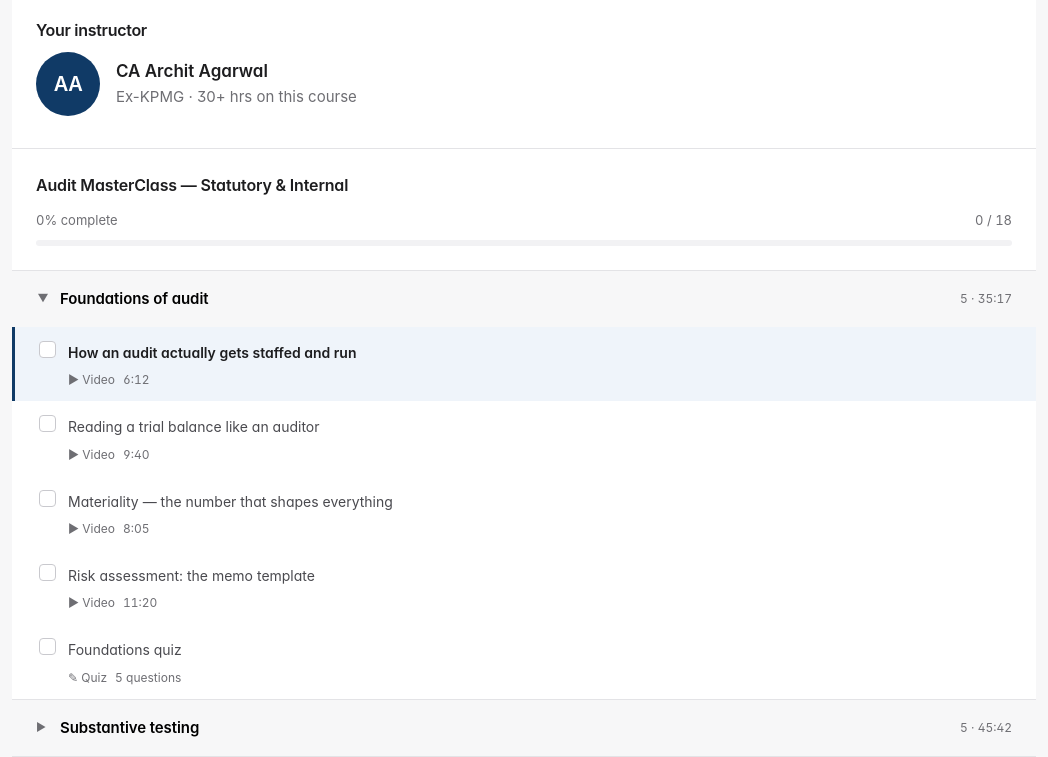
Test case: lesson progress survives finishing a lesson › lets the sidebar checkbox toggle a lesson without navigating away
(page scrolled)
Click the checkbox named "Mark complete: Materiality" at (48, 498), box [39, 490, 56, 507]
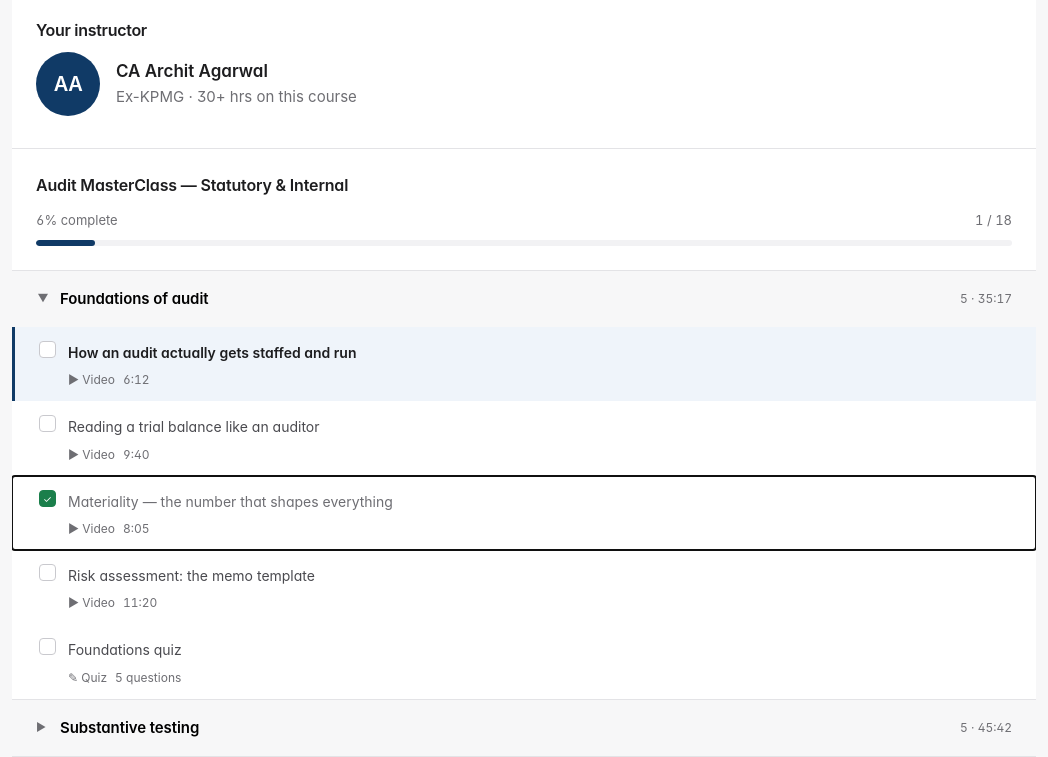
Now the text "1 / 18" is shown, box [975, 210, 1012, 231]
Click the checkbox named "Mark incomplete: Materiality" at (48, 498), box [39, 490, 56, 507]
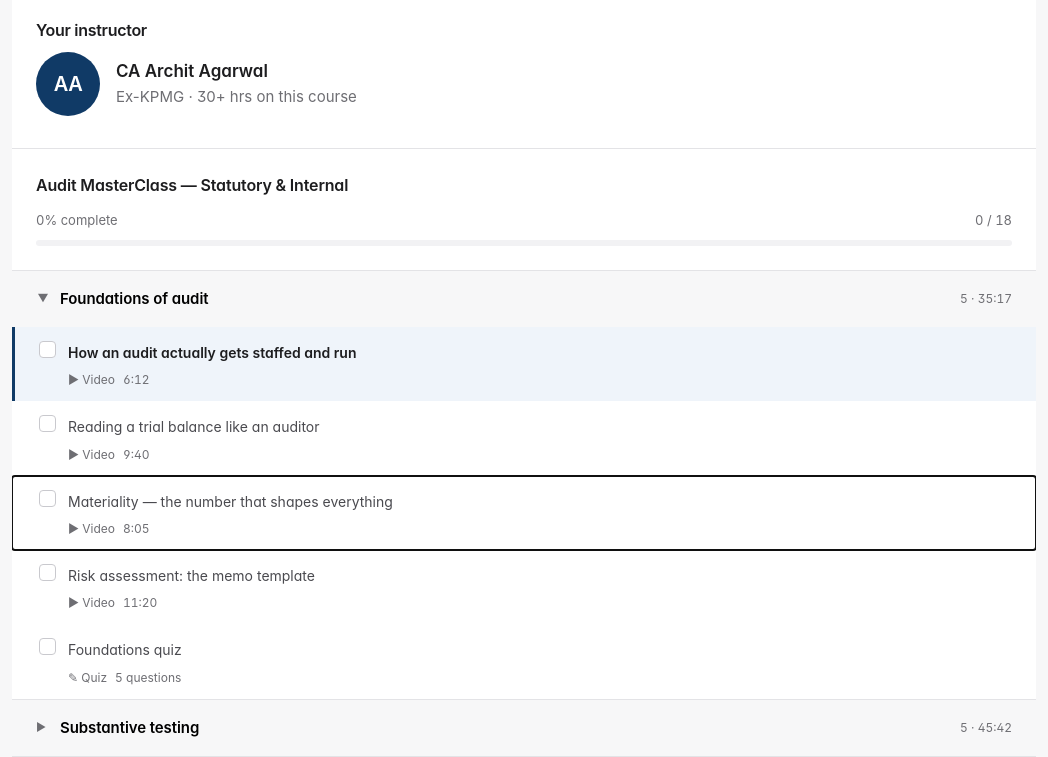
Now the text "0 / 18" is shown, box [975, 210, 1012, 231]
